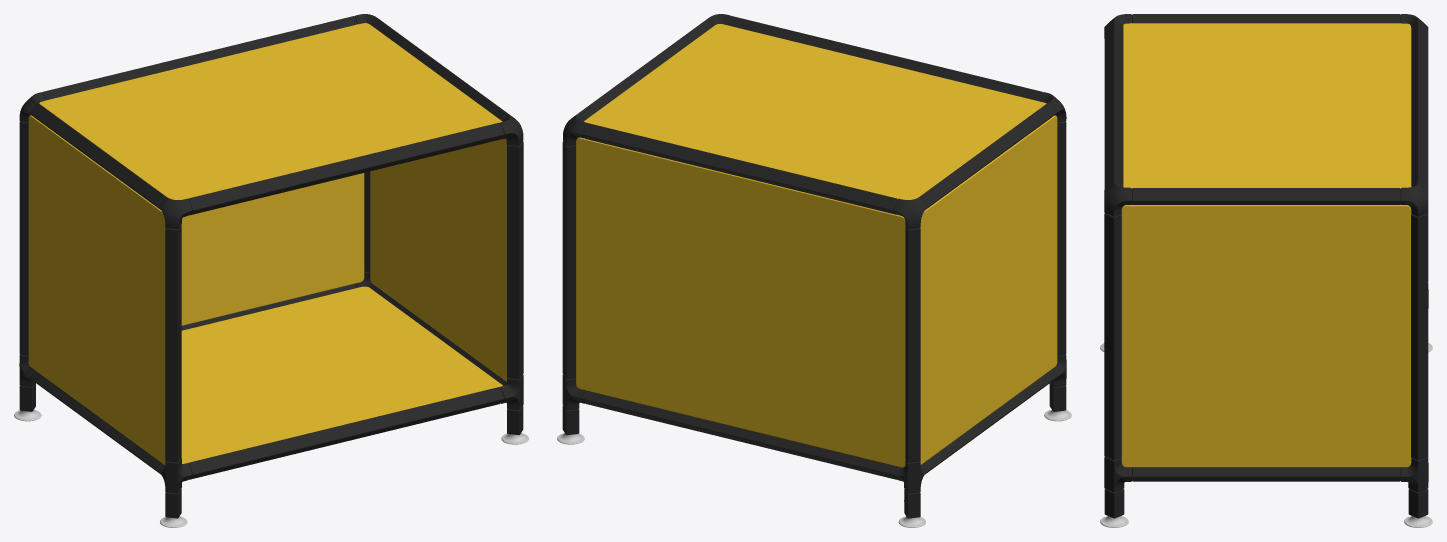
The picture shows the model from 3 angles, left to right: view 1: azimuth 30°, elevation 25°; view 2: azimuth 150°, elevation 25°; view 3: azimuth 270°, elevation 25°; orthographic projection. The views are drawn at different scales.
Parts seen in each view (by area): view 1: 523x374x374; view 2: 523x374x374; view 3: 523x374x374.
Boxes of the visible parts, x1,y1,x2,y2 form: 523x374x374: (14,14,528,527); 523x374x374: (557,14,1071,527); 523x374x374: (1100,14,1432,527).
Size of the model in its own units: 0.6129 by 0.5133 by 0.4632.
